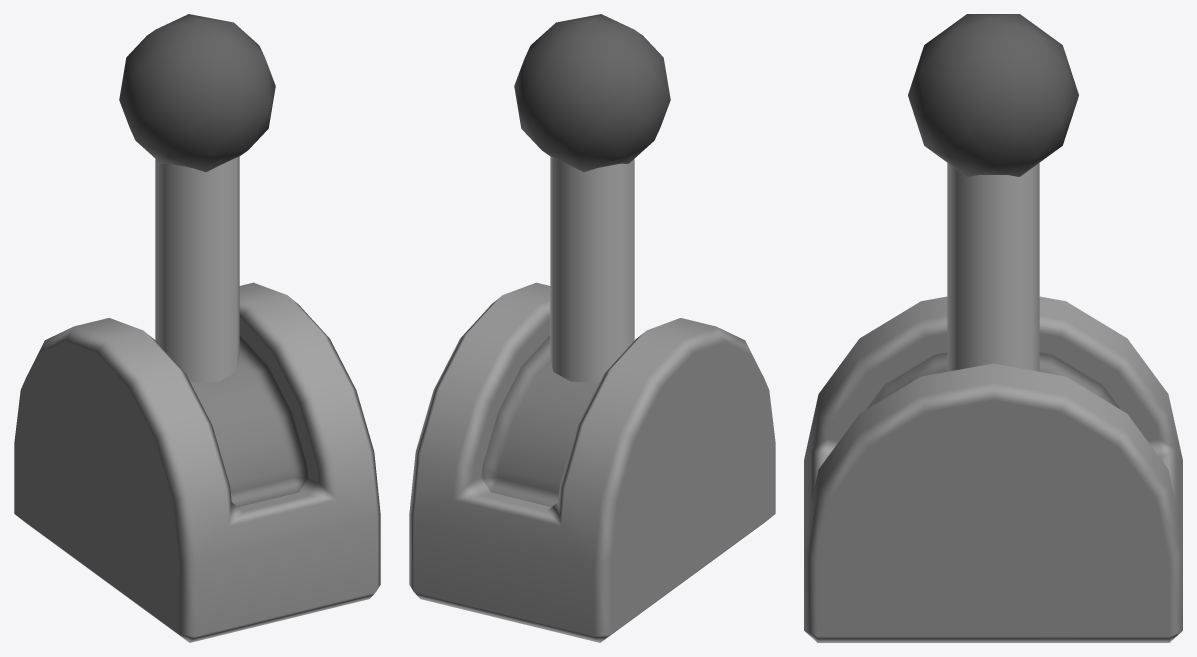
The model's file is Switch.fbx.
The picture shows the model from 3 angles, left to right: view 1: azimuth 30°, elevation 25°; view 2: azimuth 150°, elevation 25°; view 3: azimuth 270°, elevation 25°; orthographic projection. The views are drawn at different scales.
Visible parts, largest first — view 1: Switch_Base, Switch Grip; view 2: Switch_Base, Switch Grip; view 3: Switch_Base, Switch Grip.
Boxes of the visible parts, x1=… form: Switch_Base: x1=14, y1=282, x2=380, y2=642; Switch Grip: x1=119, y1=14, x2=275, y2=382; Switch_Base: x1=409, y1=282, x2=775, y2=642; Switch Grip: x1=514, y1=14, x2=670, y2=382; Switch_Base: x1=804, y1=296, x2=1182, y2=642; Switch Grip: x1=908, y1=14, x2=1078, y2=371.
Bounding box in the file's own units: 27.59 × 70.57 × 41.9.
